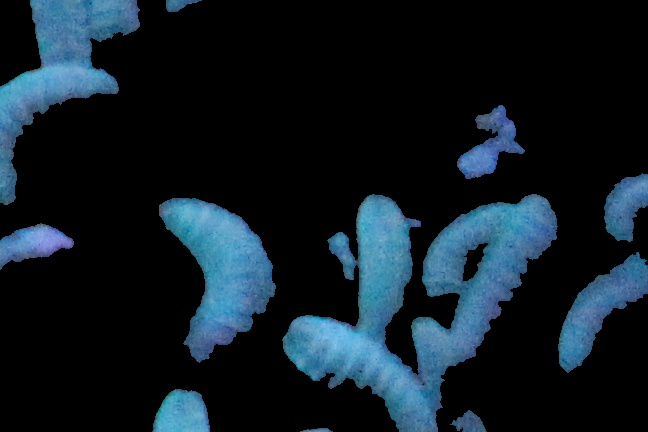larvae: (158, 197, 279, 360), (283, 314, 439, 431), (452, 193, 557, 360), (1, 66, 119, 205), (554, 253, 648, 372), (423, 203, 514, 297), (356, 196, 415, 330), (25, 1, 92, 66), (409, 318, 452, 410), (602, 170, 648, 241)
